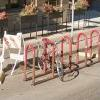Bicycle: (26, 33, 70, 81)
